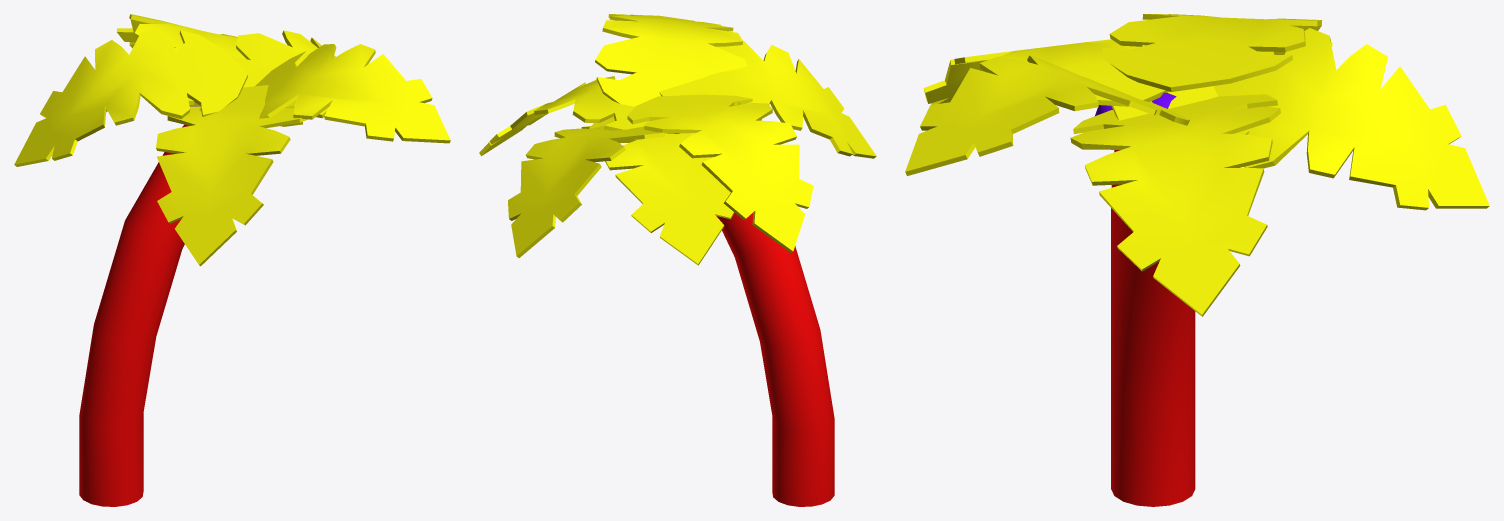
File: CoconutTree_Low.fbx
The picture shows the model from 3 angles, left to right: view 1: azimuth 30°, elevation 25°; view 2: azimuth 150°, elevation 25°; view 3: azimuth 270°, elevation 25°; orthographic projection. The views are drawn at different scales.
Parts seen in each view (by area): view 1: Leaves_low, Trunk_low; view 2: Leaves_low, Trunk_low; view 3: Leaves_low, Trunk_low.
Part boxes in pixels (x1,y1,x2,y2): Leaves_low: [14, 14, 450, 266]; Trunk_low: [79, 124, 188, 506]; Leaves_low: [479, 14, 876, 265]; Trunk_low: [716, 212, 834, 506]; Leaves_low: [905, 14, 1489, 316]; Trunk_low: [1111, 150, 1195, 506].
Bounding box in the file's own units: 121 × 132 × 132.
